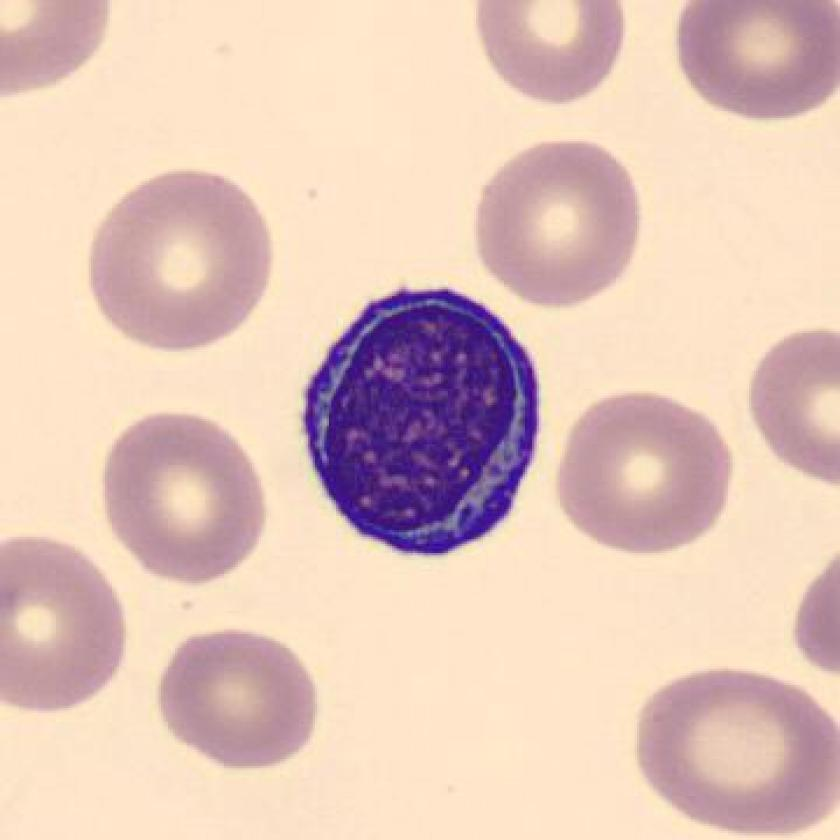lymphocyte: (286, 272, 556, 568)
